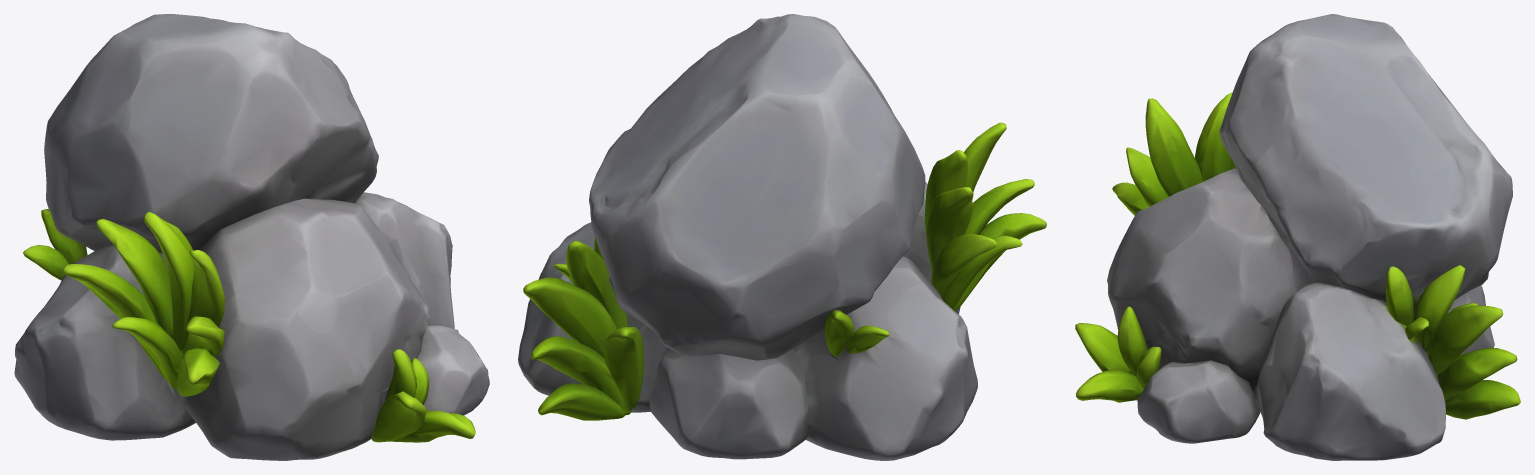
Rendered from rock_boulders.glb.
3 views of the same model, side by side, from view 1: azimuth 30°, elevation 25°; view 2: azimuth 150°, elevation 25°; view 3: azimuth 270°, elevation 25° (orthographic). The views are drawn at different scales.
Parts seen in each view (by area): view 1: tripo_node_1c38d9d4-8838-4281-96e6-ea5506918835; view 2: tripo_node_1c38d9d4-8838-4281-96e6-ea5506918835; view 3: tripo_node_1c38d9d4-8838-4281-96e6-ea5506918835.
Boxes of the visible parts, bbox=[...] form: tripo_node_1c38d9d4-8838-4281-96e6-ea5506918835: bbox=[14, 14, 489, 460]; tripo_node_1c38d9d4-8838-4281-96e6-ea5506918835: bbox=[518, 14, 1046, 460]; tripo_node_1c38d9d4-8838-4281-96e6-ea5506918835: bbox=[1075, 14, 1520, 460].
Size of the model in its own units: 0.951 by 0.8002 by 0.9694.
Materials: 1 (1 with a texture image).
